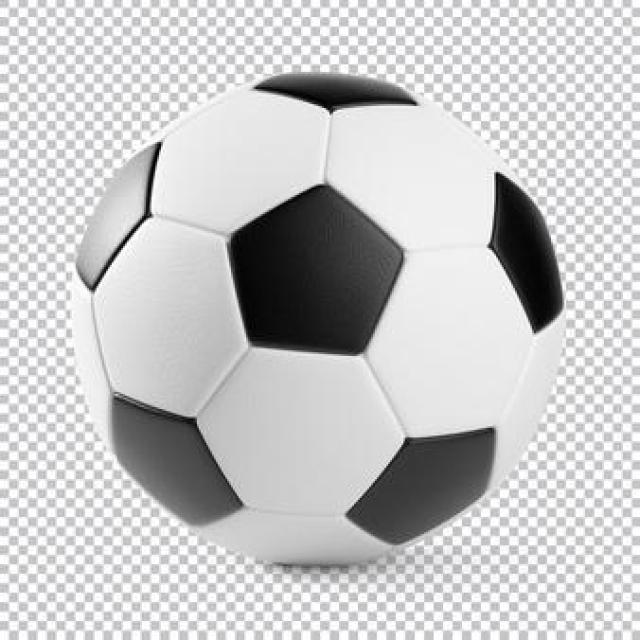Soccer Ball: (72, 74, 564, 566)
